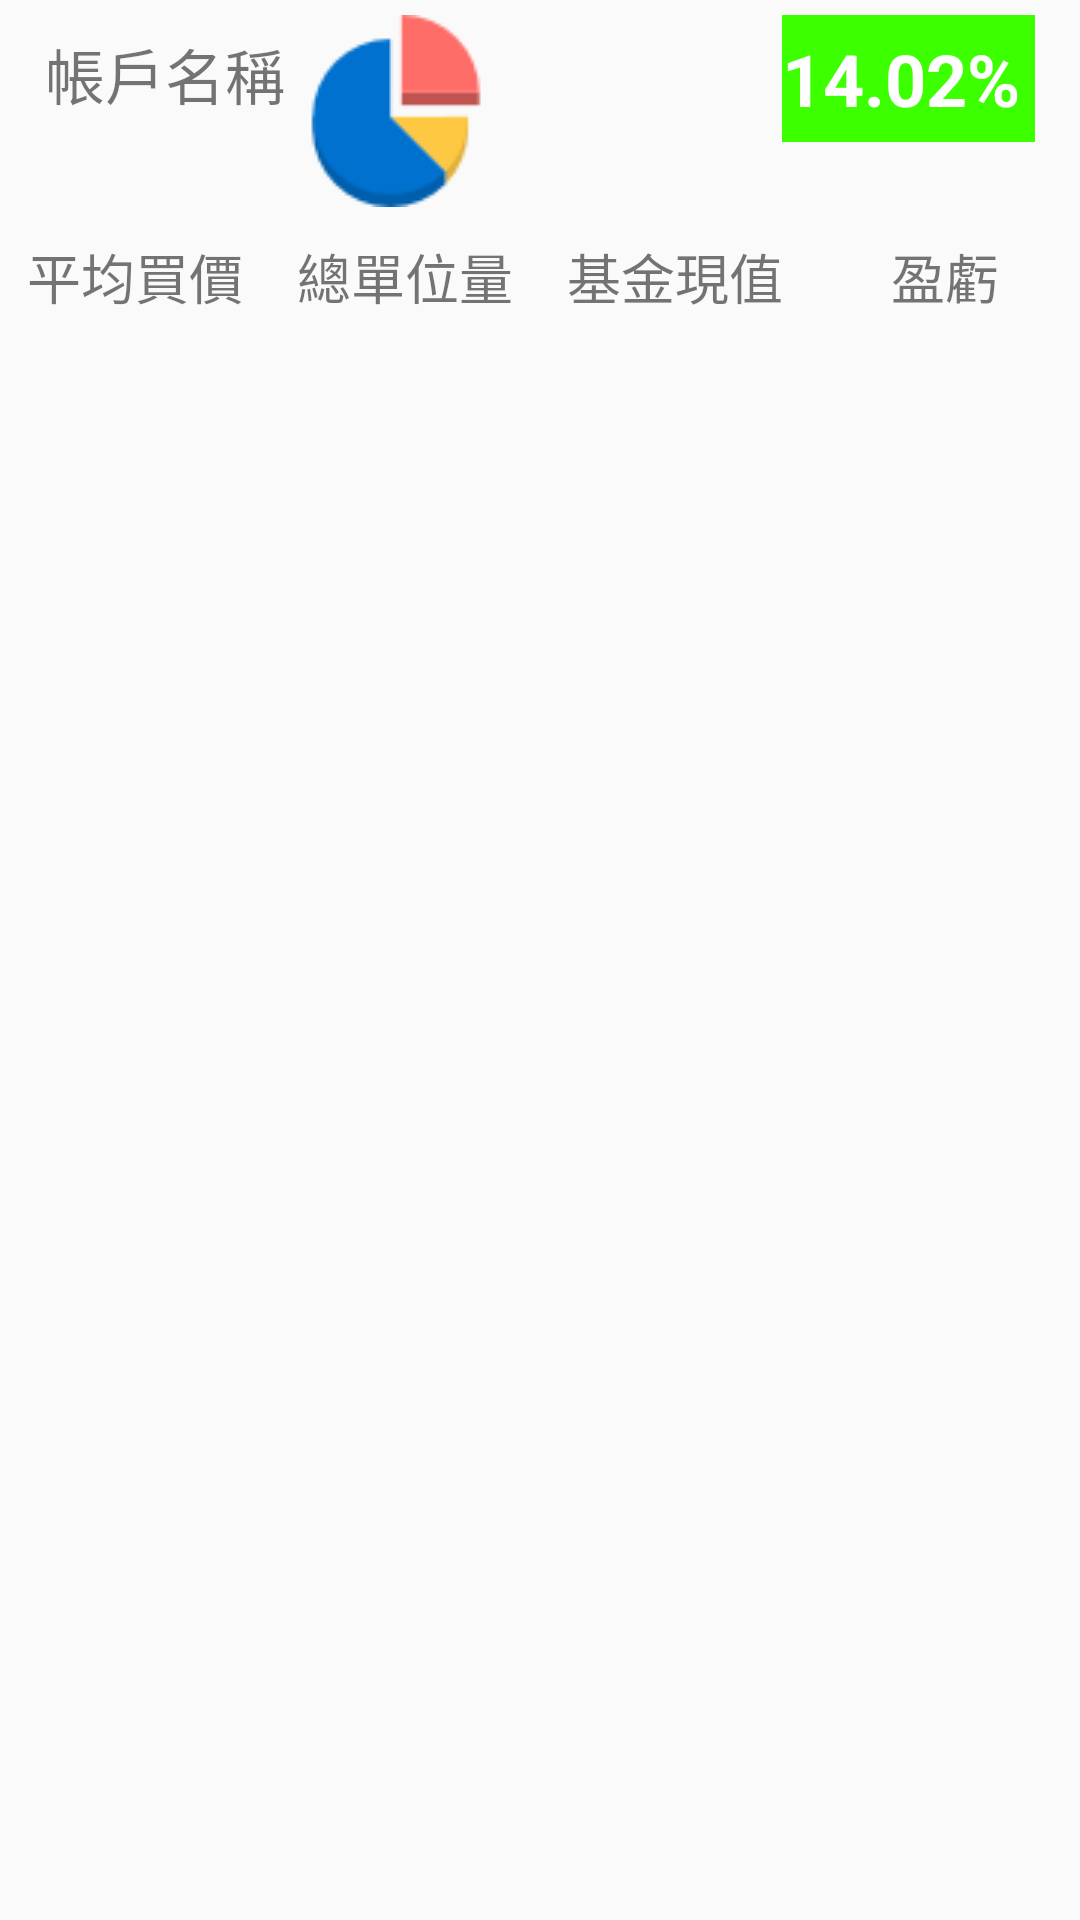

Icon bounding boxes for this 1080*1920 phone screenshot, format BBox(x1, y1, x2, y2):
pie chart: BBox(311, 15, 481, 207)
